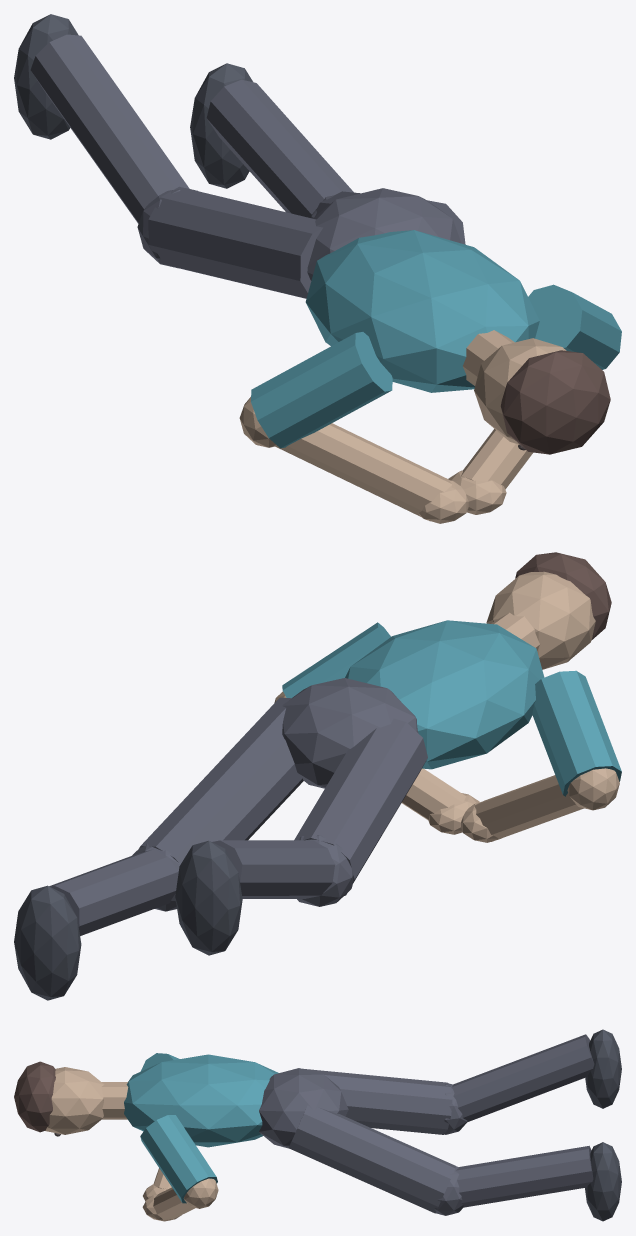
3 renders of one model, top to bottom at view 1: azimuth 30°, elevation 25°; view 2: azimuth 150°, elevation 25°; view 3: azimuth 270°, elevation 25°, orthographic. The views are drawn at different scales.
Parts seen in each view (by area): view 1: world; view 2: world; view 3: world.
Boxes of the visible parts, box(x1,y1,x2,y2) form: world: box(14, 14, 621, 523); world: box(14, 552, 621, 1000); world: box(14, 1029, 621, 1221).
Size of the model in its own units: 0.93 by 0.625 by 2.08.
